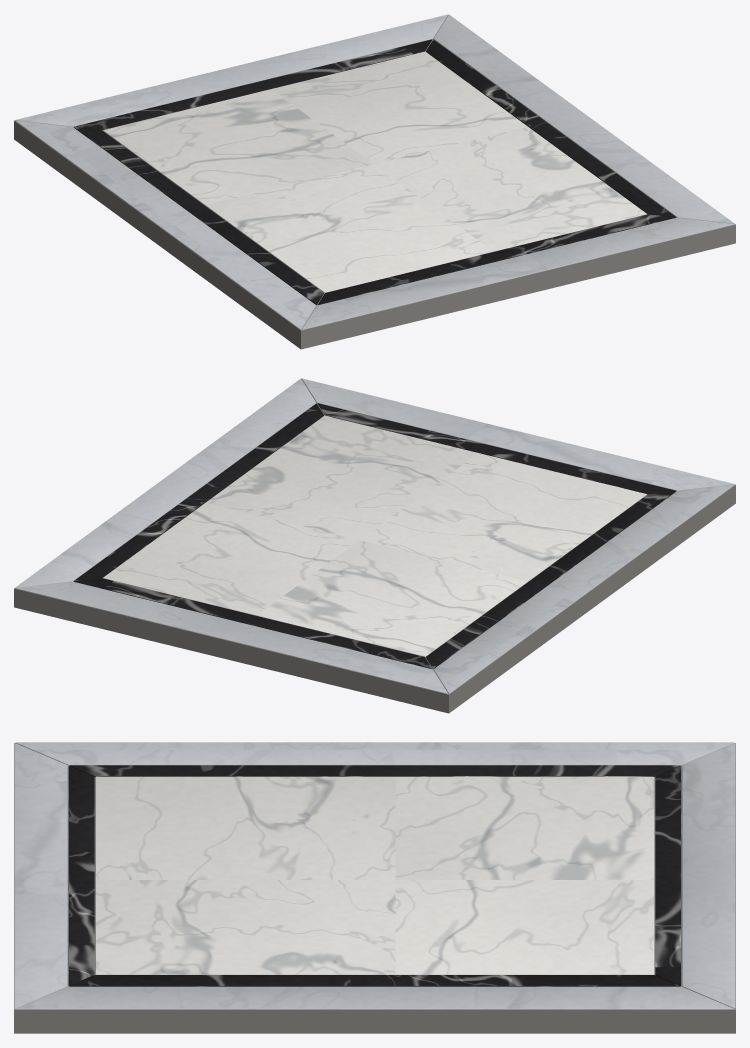
File: floor_KA-DB031.glb
3 views of the same model, one above another, from view 1: azimuth 30°, elevation 25°; view 2: azimuth 150°, elevation 25°; view 3: azimuth 270°, elevation 25° (orthographic). The views are drawn at different scales.
Parts seen in each view (by area): view 1: Floor; view 2: Floor; view 3: Floor.
Boxes of the visible parts, x1,y1,x2,y2 form: Floor: (14, 14, 735, 349); Floor: (14, 378, 735, 713); Floor: (14, 742, 735, 1033).
Size of the model in its own units: 1.4 by 0.06 by 1.6.
Materials: 4 (3 with a texture image).
